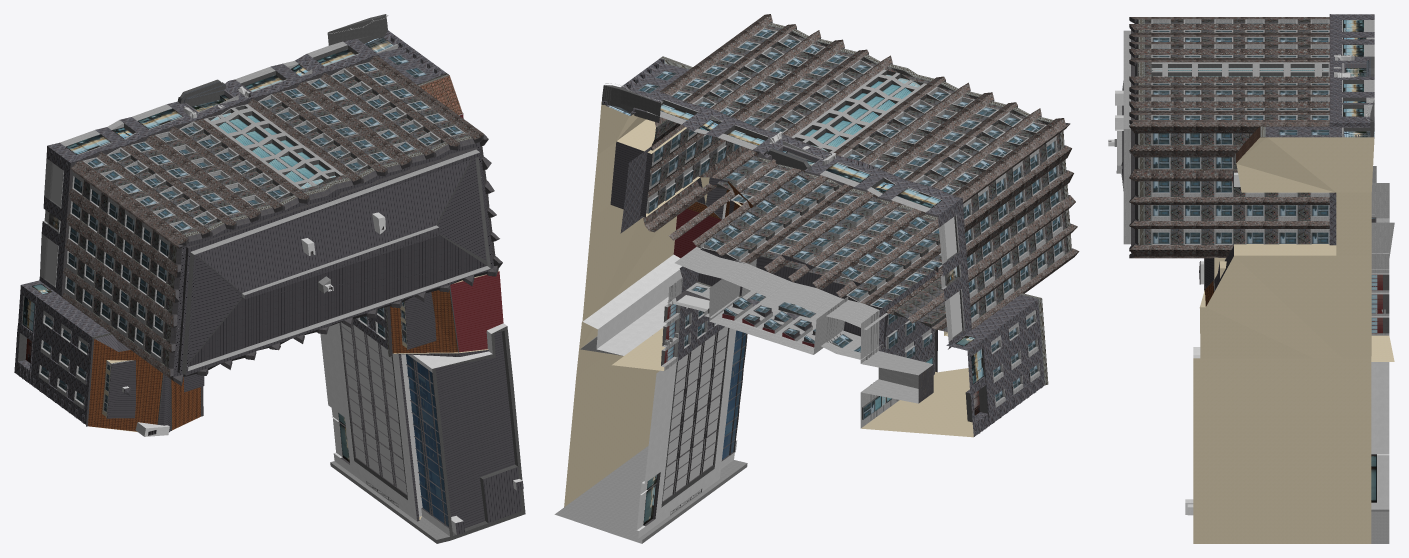
File: Vabaduse_valjak_7-origo.obj
3 renders of one model, left to right at view 1: azimuth 30°, elevation 25°; view 2: azimuth 150°, elevation 25°; view 3: azimuth 270°, elevation 25°, orthographic. The views are drawn at different scales.
Parts seen in each view (by area): view 1: Vabaduse_Valiak_7; view 2: Vabaduse_Valiak_7; view 3: Vabaduse_Valiak_7.
Boxes of the visible parts, bbox=[...] form: Vabaduse_Valiak_7: bbox=[14, 14, 525, 543]; Vabaduse_Valiak_7: bbox=[554, 14, 1079, 543]; Vabaduse_Valiak_7: bbox=[1108, 14, 1394, 543].
Bounding box in the file's own units: 53.19 × 54.5 × 34.38.
